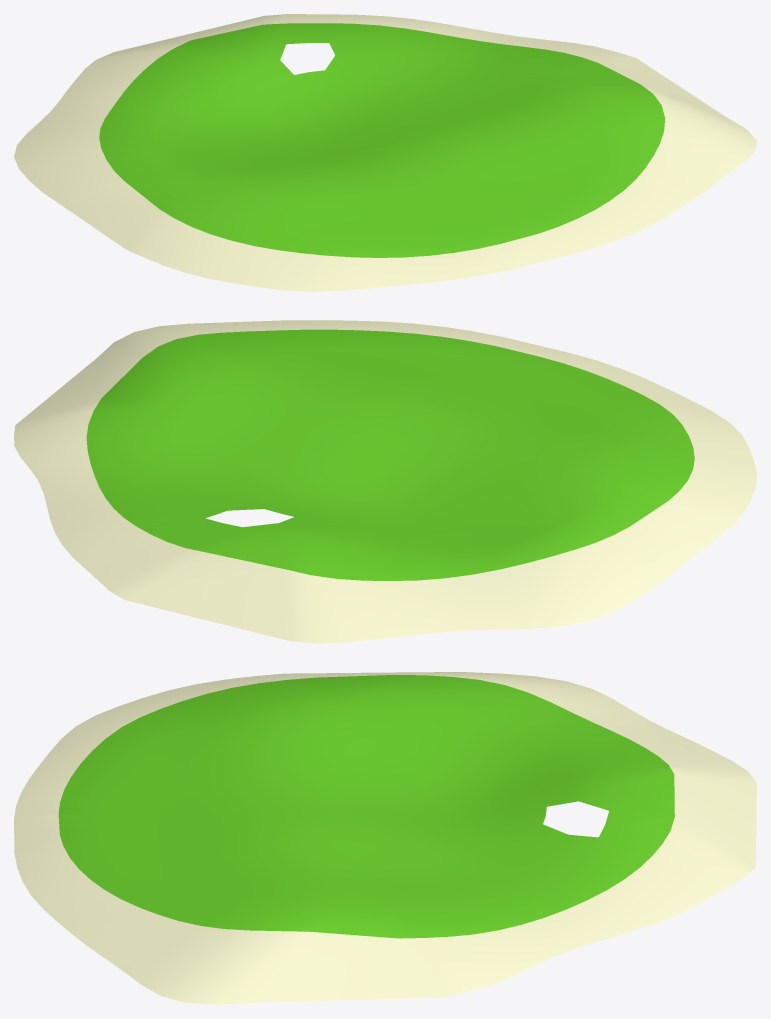
The model's file is Island3_Edited.fbx.
The picture shows the model from 3 angles, top to bottom: view 1: azimuth 30°, elevation 25°; view 2: azimuth 150°, elevation 25°; view 3: azimuth 270°, elevation 25°; orthographic projection. The views are drawn at different scales.
Visible parts, largest first — view 1: Mesh_Generator; view 2: Mesh_Generator; view 3: Mesh_Generator.
Boxes of the visible parts, x1=… form: Mesh_Generator: x1=14, y1=14, x2=756, y2=291; Mesh_Generator: x1=14, y1=320, x2=756, y2=643; Mesh_Generator: x1=14, y1=672, x2=756, y2=1004.
Size of the model in its own units: 2457 by 131 by 2333.
